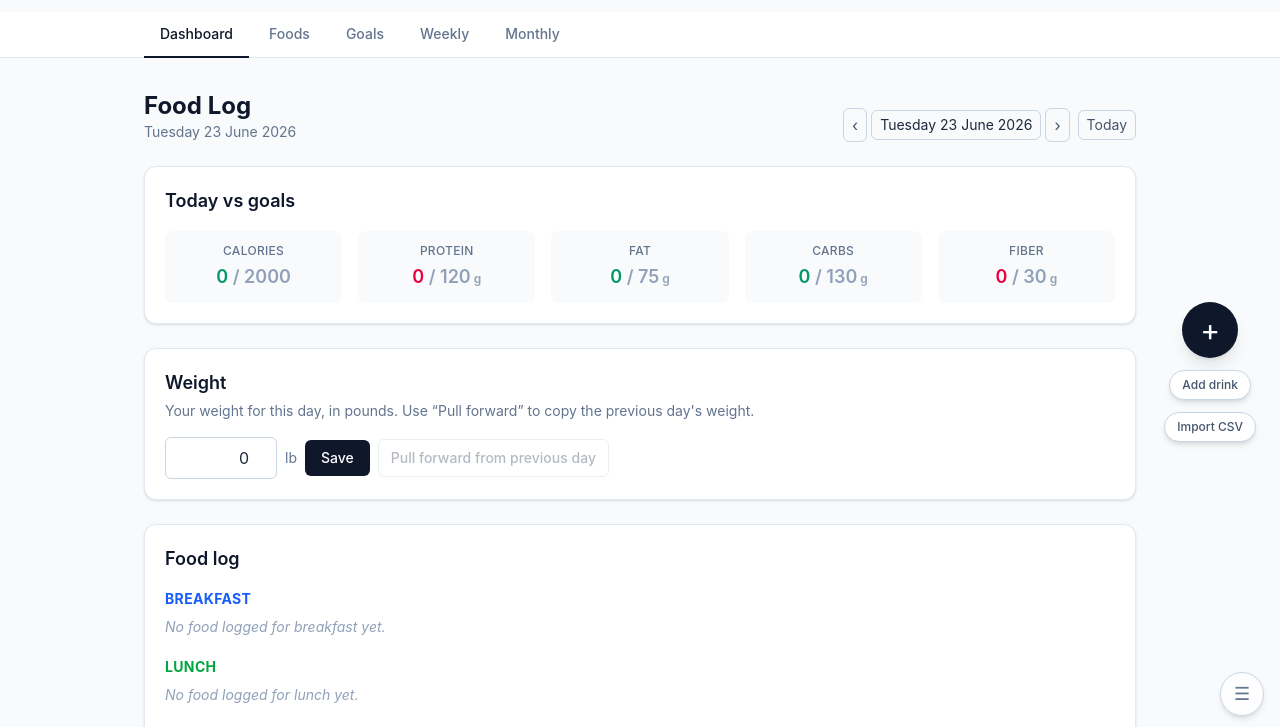
Scenario: App tab navigation › switches to the Goals page when the Goals tab is clicked
What coordinates should you click on to do the following:
click the tab "Goals"
I would click on:
 (365, 35)
Its box is x1=330 y1=12 x2=400 y2=58.
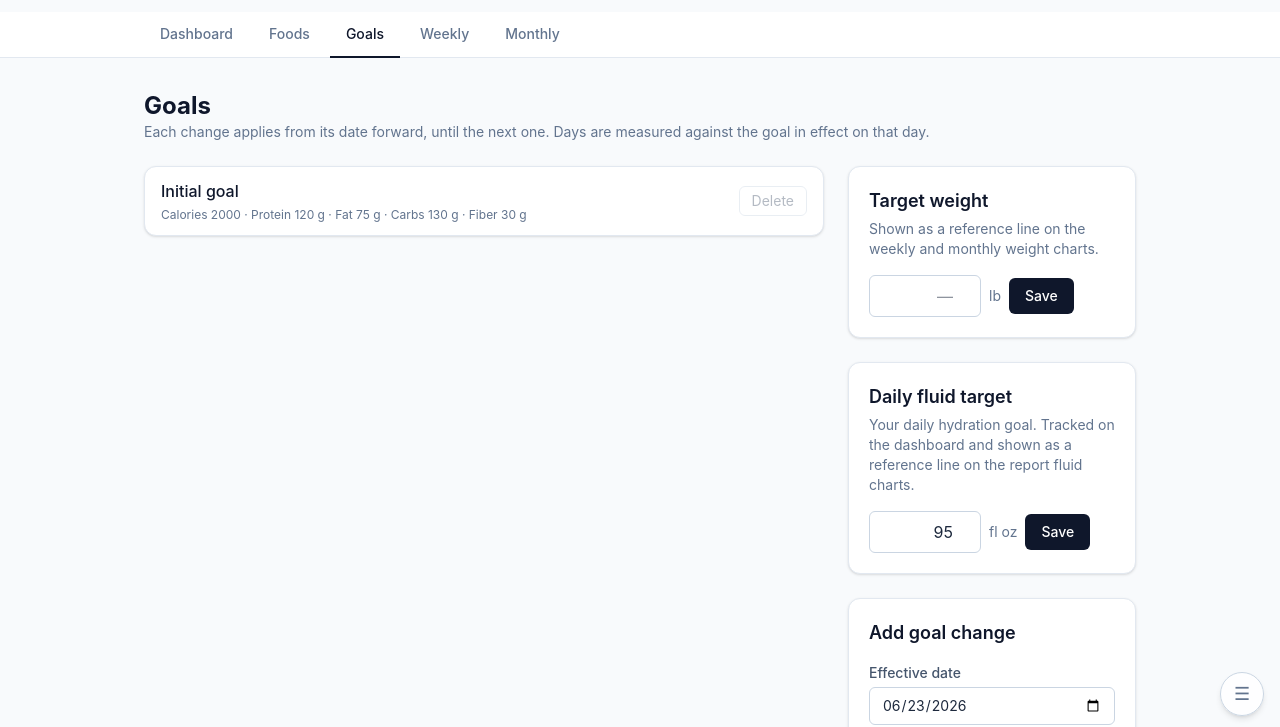
Result: the heading "Goals" is shown at x1=144 y1=91 x2=211 y2=120
Result: the text "Initial goal" is shown at x1=161 y1=181 x2=239 y2=201
